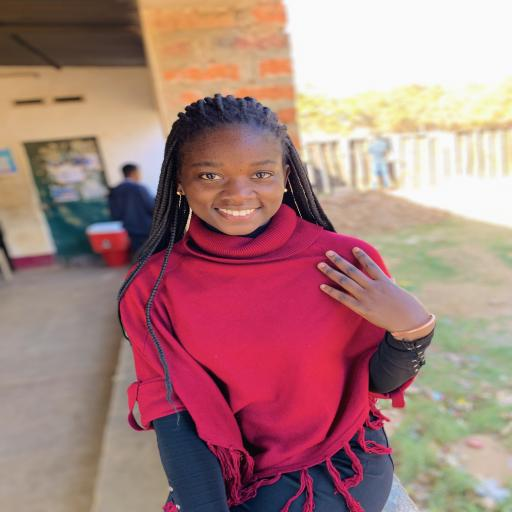LAURENE: (161, 84, 306, 245)
